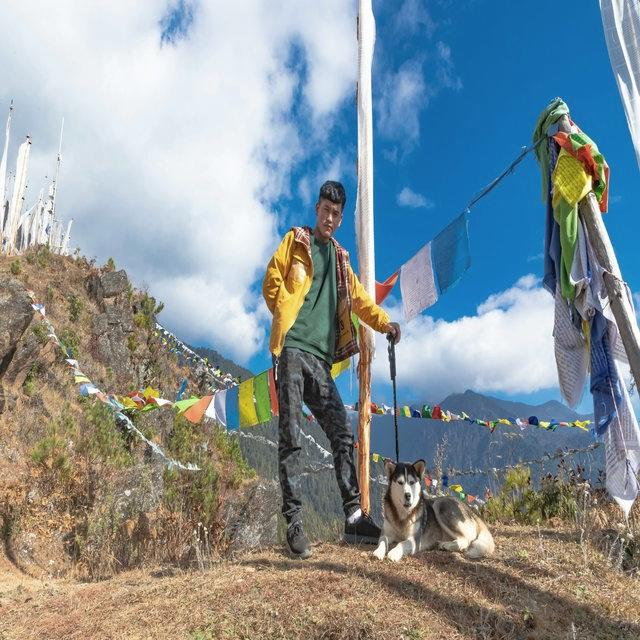husky: (373, 457, 497, 562)
